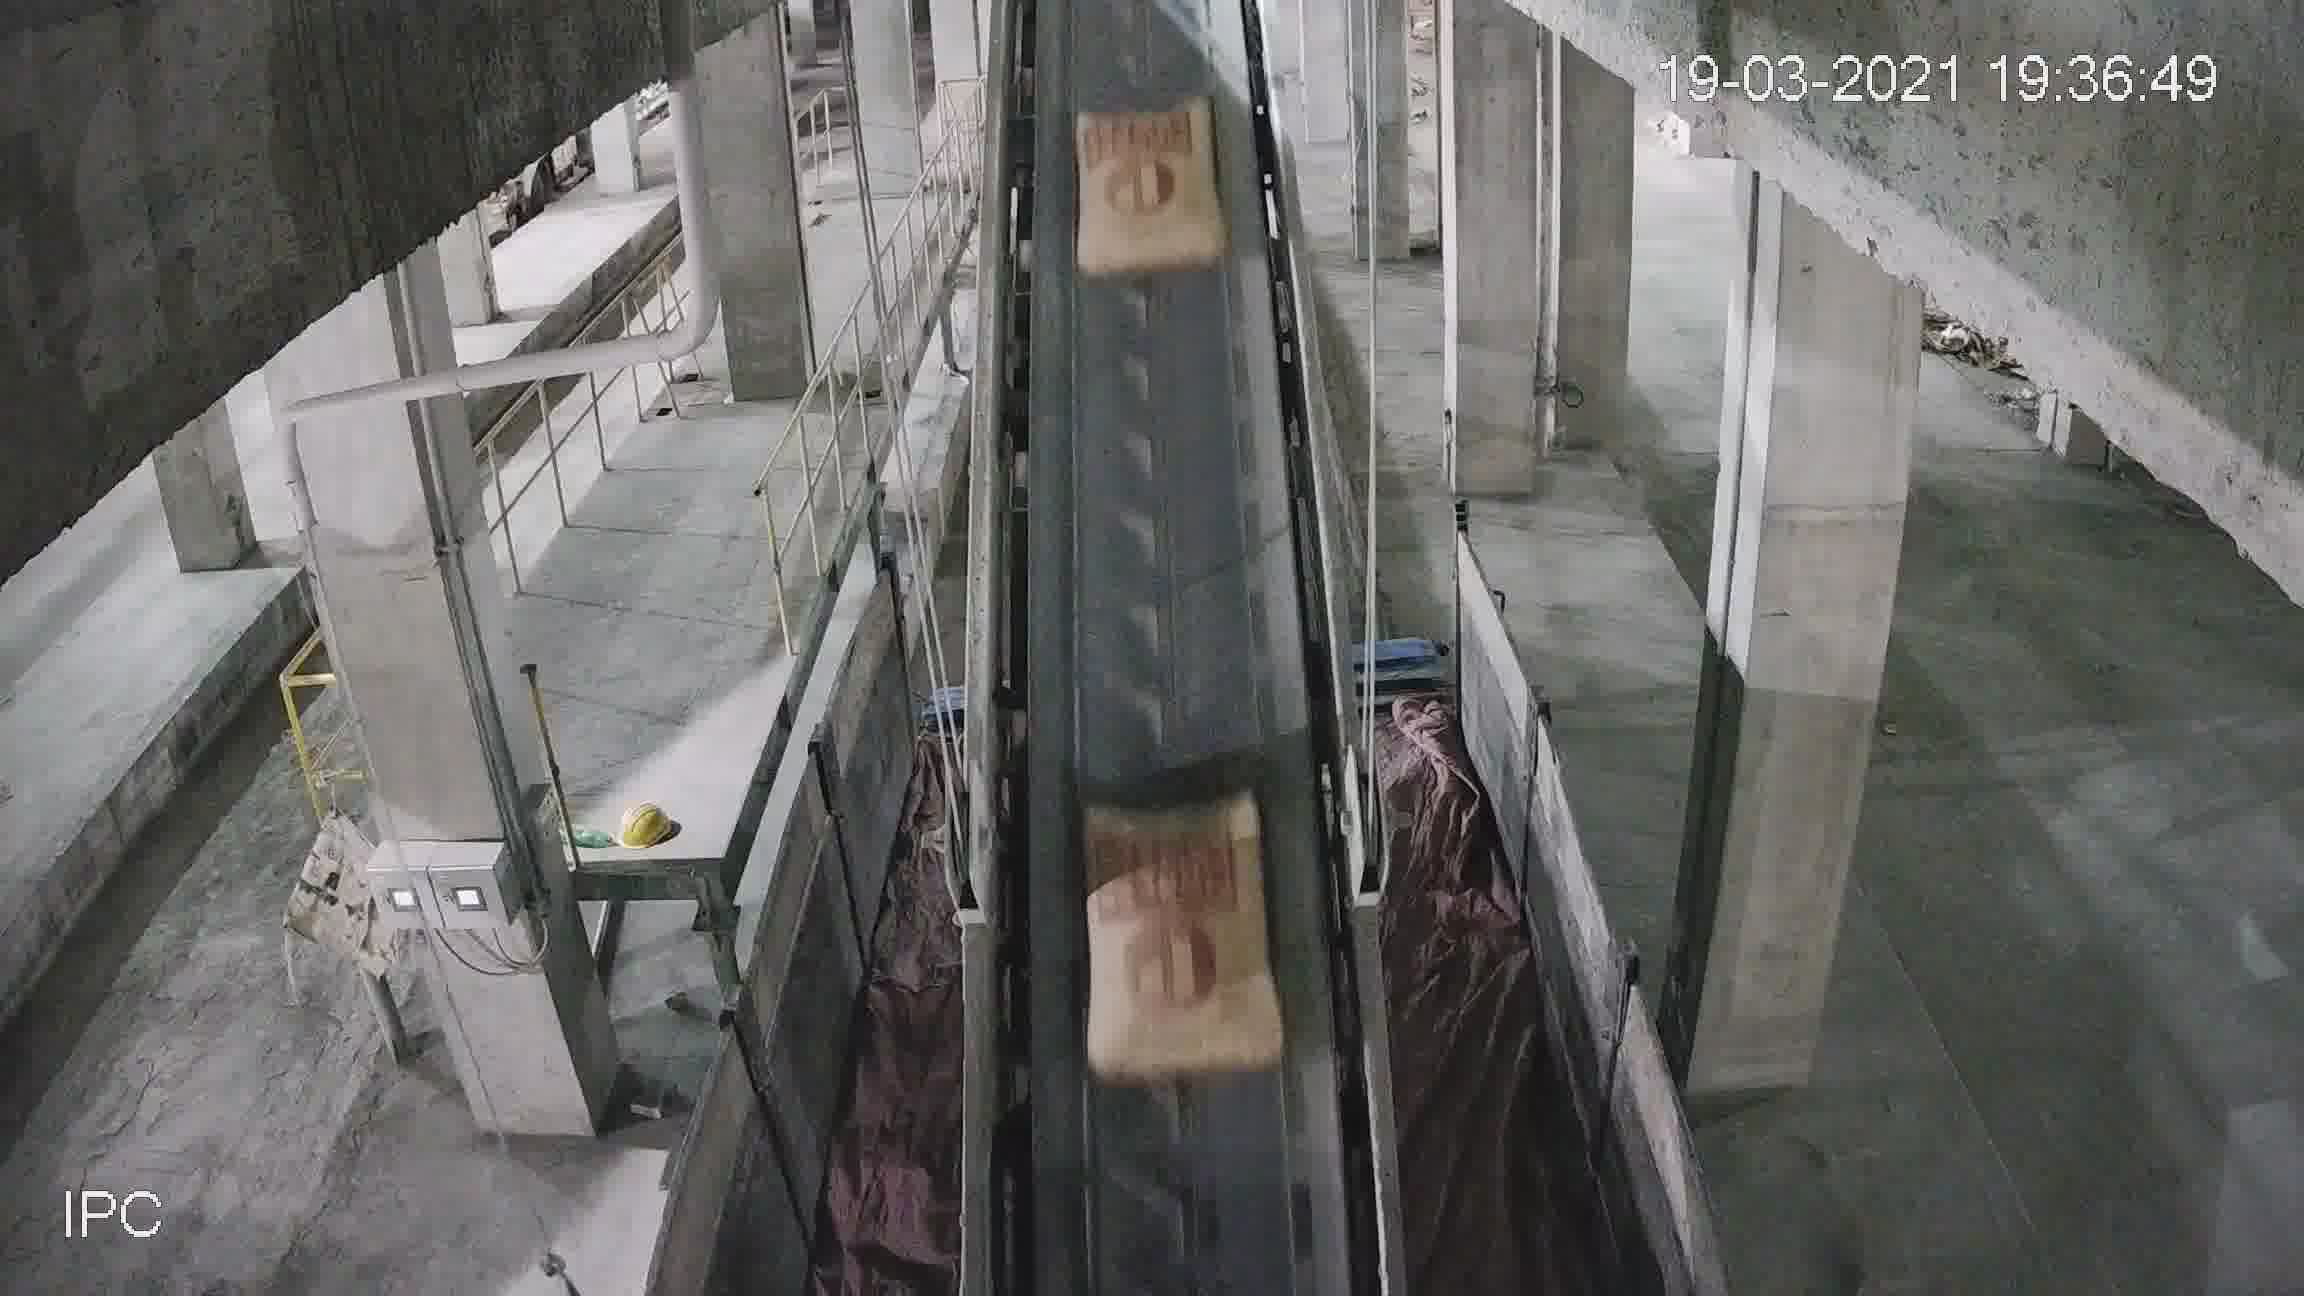bag: (1082, 805, 1275, 1093), (1081, 104, 1222, 279)
belt: (972, 104, 1374, 1249)
